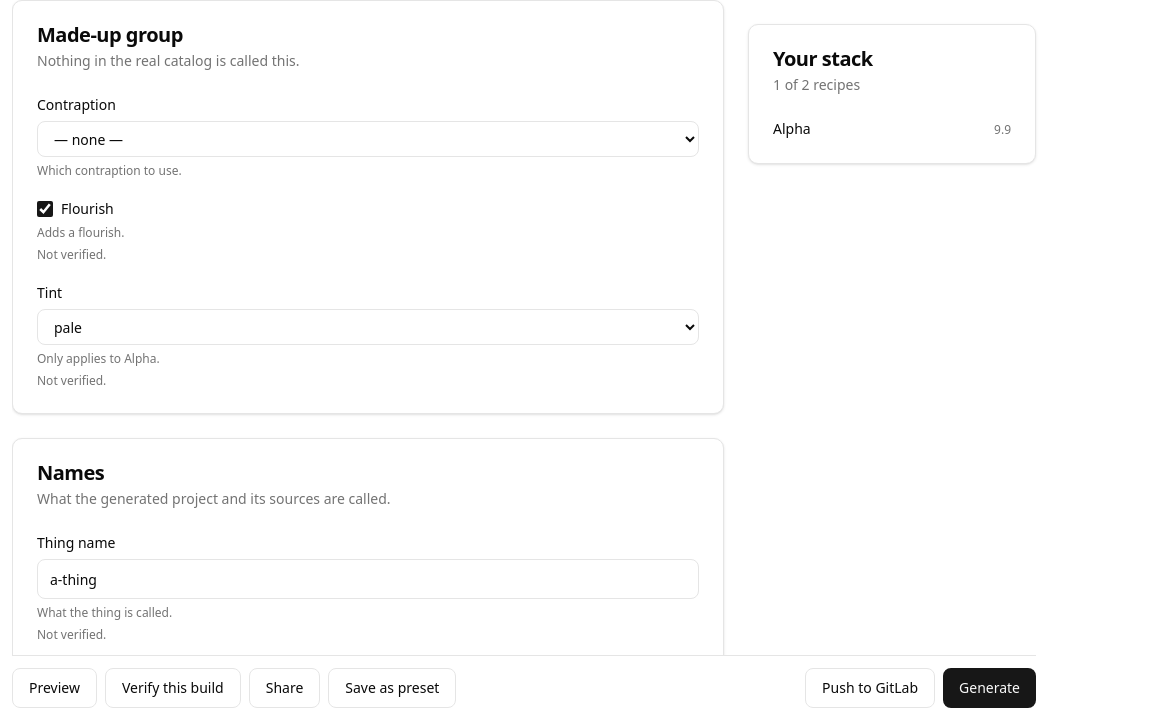
Test: Wizard › keeps an error that names no field in the bottom bar
Expected: the text "Alpha" is shown, [773,119,811,139]
What coordinates should you click on to do the following:
click the button "Generate"
I would click on:
 (990, 688)
Its box is [943,668,1036,708].
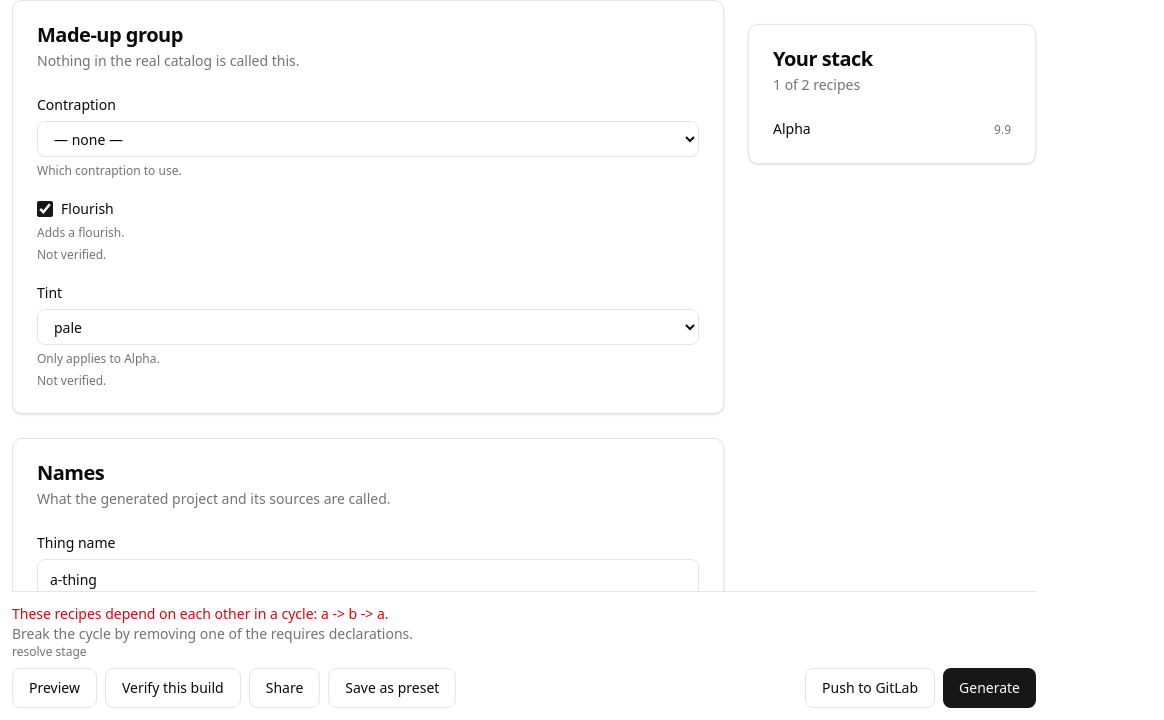
Expected: the message with test id "problem-detail" is shown, [12,604,413,660]
Expected: the text with test id "problem-hint" shows "Break the cycle", [12,624,413,643]
